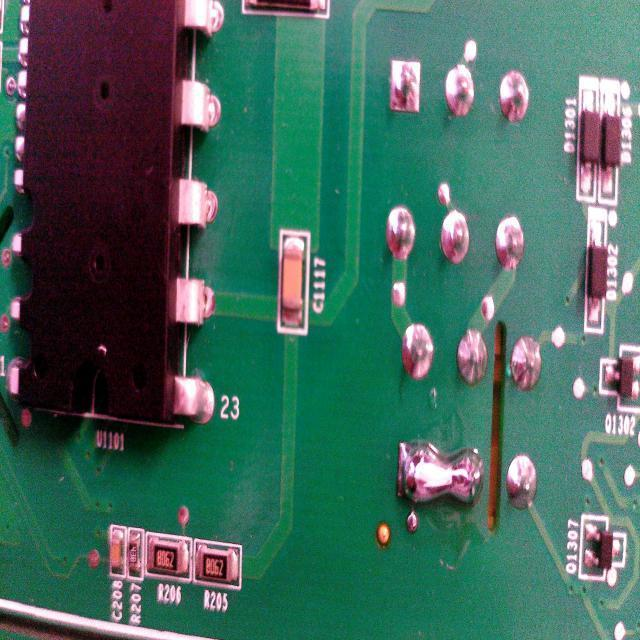Soldering shorted: (394, 434, 486, 516)
